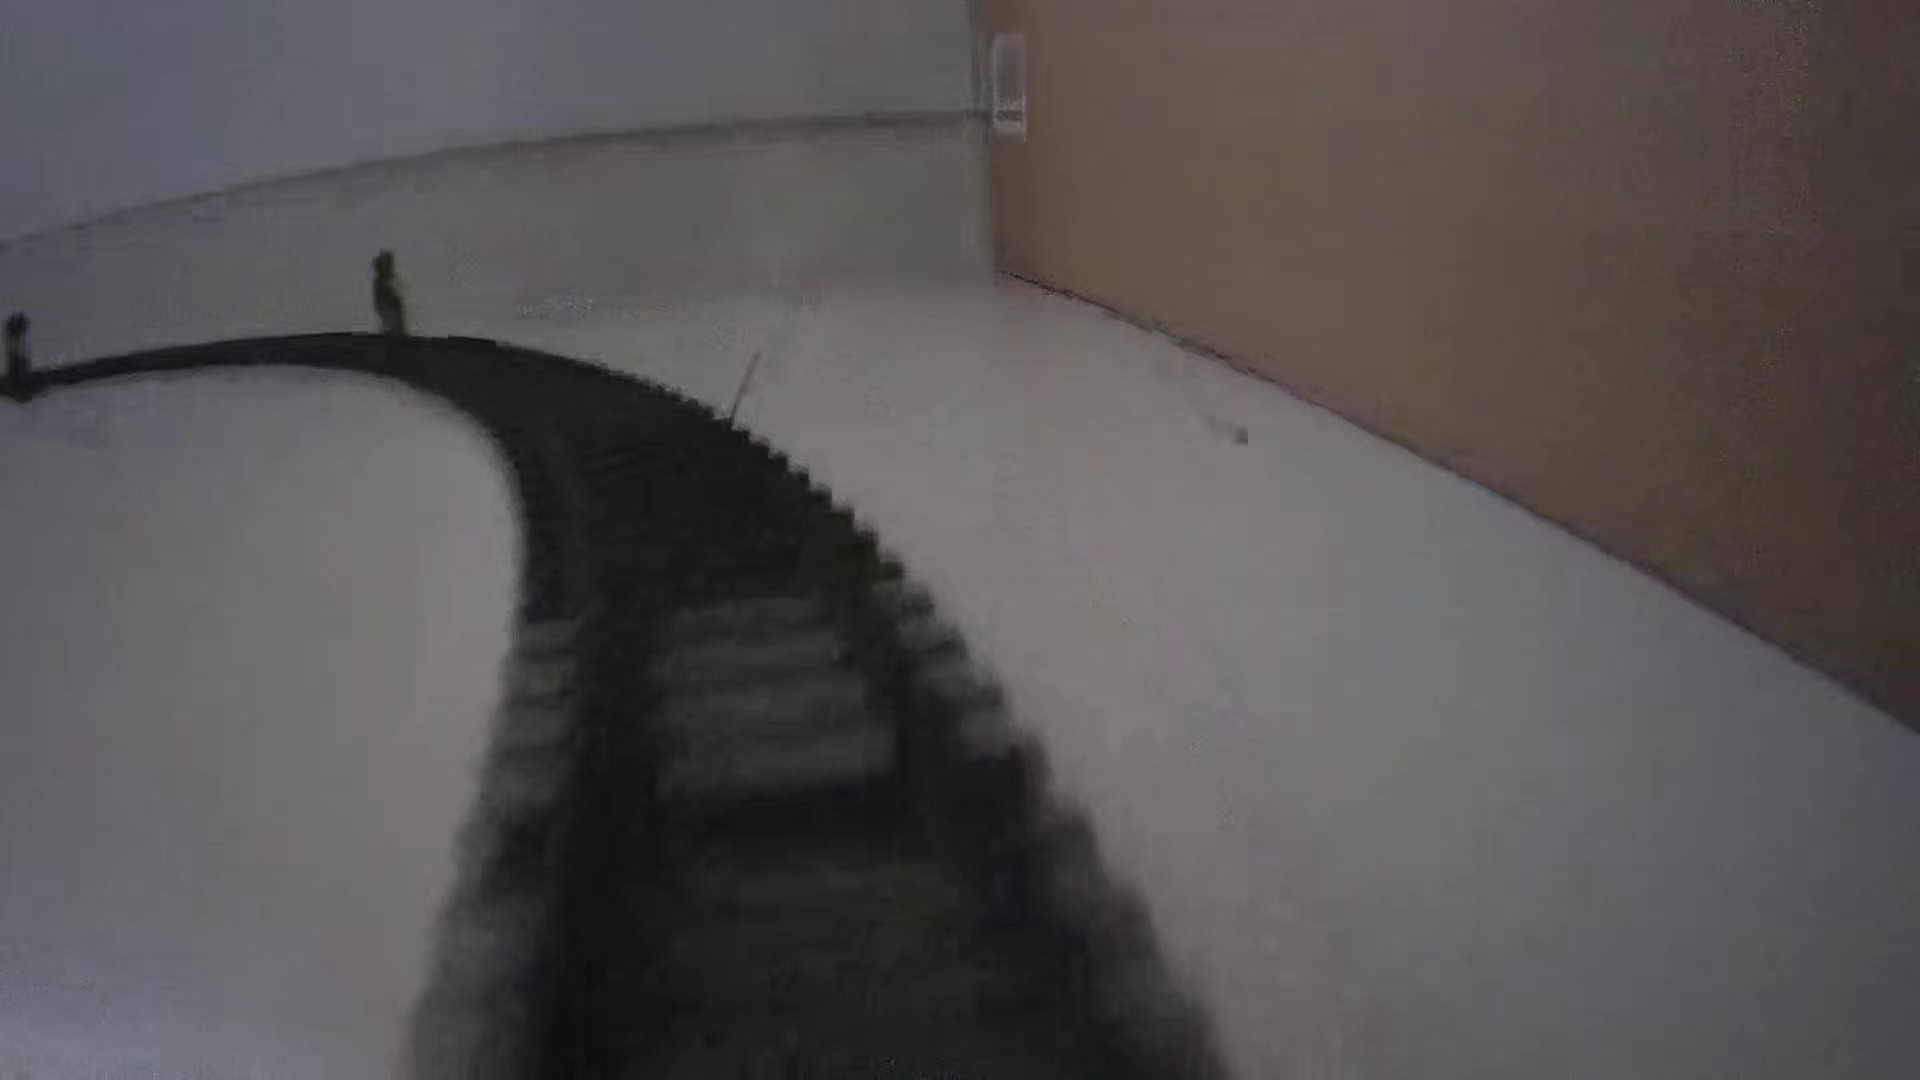people: (368, 242, 410, 341)
